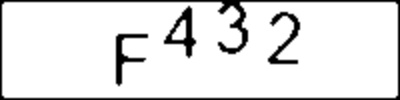2: (264, 8, 306, 68)
3: (212, 1, 253, 60)
4: (162, 4, 199, 61)
F: (111, 30, 154, 88)
